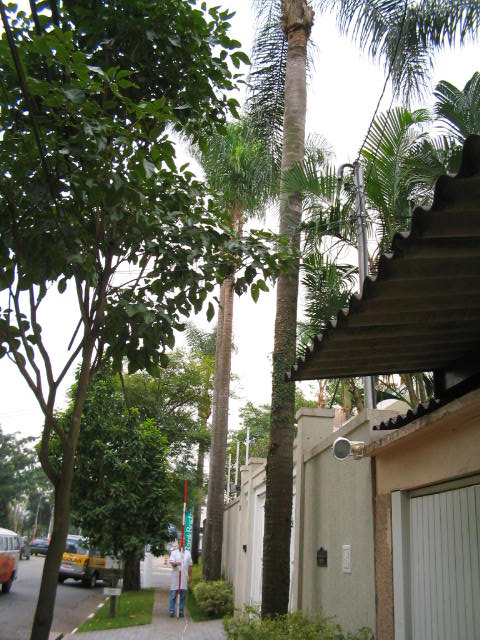crown: (7, 3, 270, 392)
stem: (16, 476, 86, 639)
stick: (166, 480, 192, 616)
tree: (3, 1, 274, 639)
